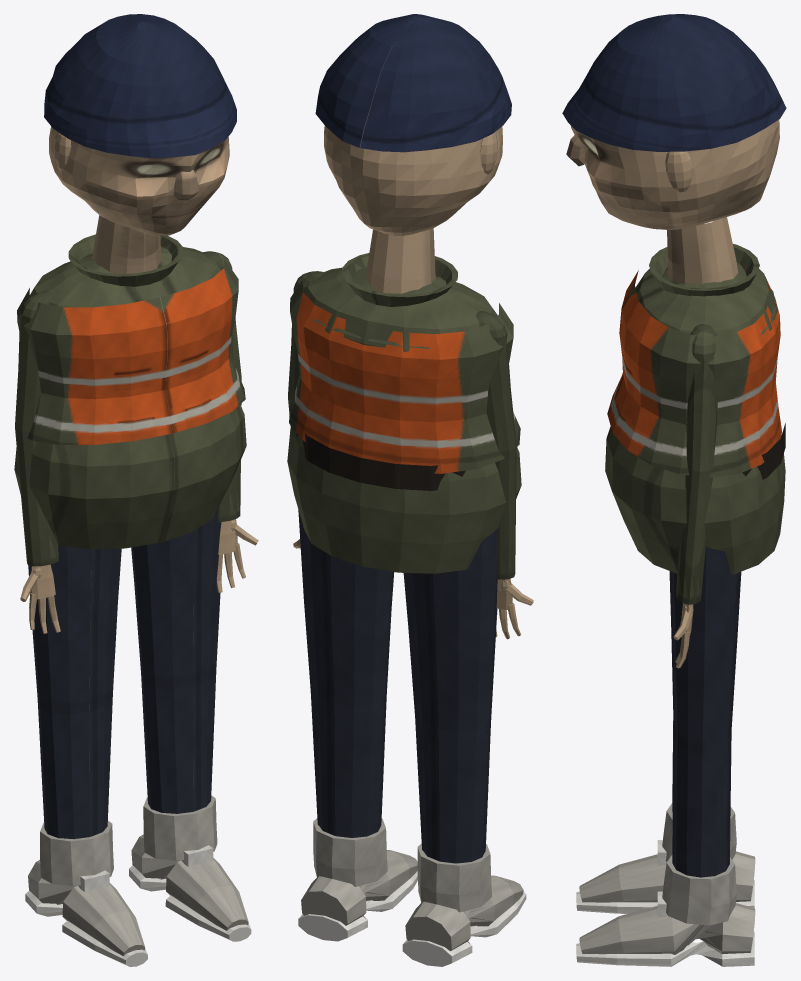
Rendered from fig_2.glb.
3 views of the same model, side by side, from view 1: azimuth 30°, elevation 25°; view 2: azimuth 150°, elevation 25°; view 3: azimuth 270°, elevation 25° (orthographic). The views are drawn at different scales.
Visible parts, largest first — view 1: figure; view 2: figure; view 3: figure.
Boxes of the visible parts, x1,y1,x2,y2 form: figure: (14,14,258,966); figure: (287,14,533,966); figure: (562,14,786,966).
Size of the model in its own units: 0.6196 by 2.23 by 0.4949.
2 materials, 2 textured.
